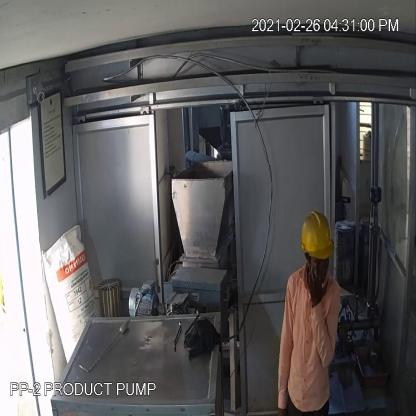helmet: (298, 210, 338, 260)
